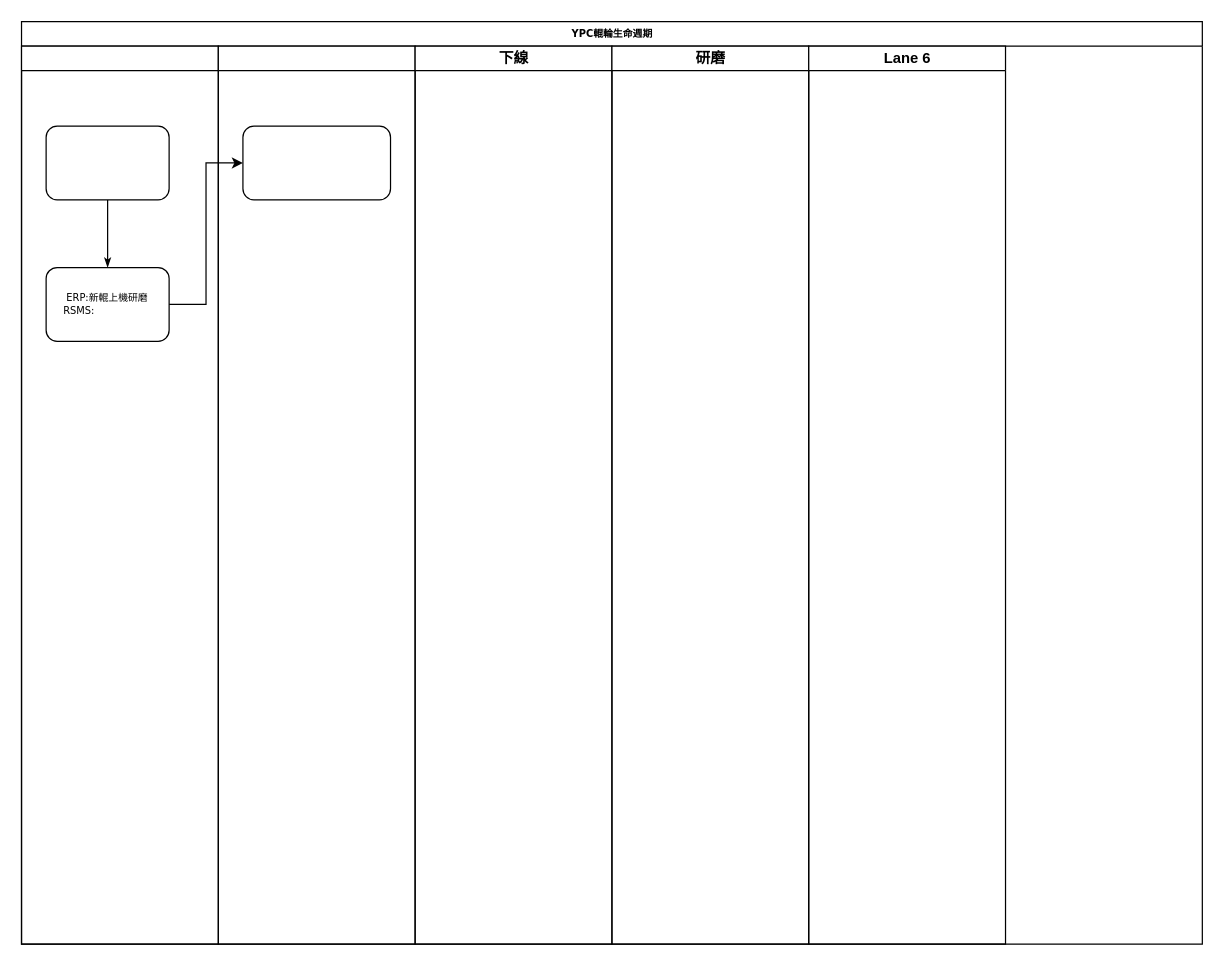
The diagram is 1224 pixels wide and 966 high, and some of its shapes have lost their labels. The shapes that lost their labels are listed below. From the top down, each one's box as (x1, y1, x2, y2) in pixels, then its label:
(45, 125, 169, 200): ERP:滾輪基本資料 RSMS:
(20, 45, 218, 944): 新輥入廠
(217, 45, 415, 944): 上線
